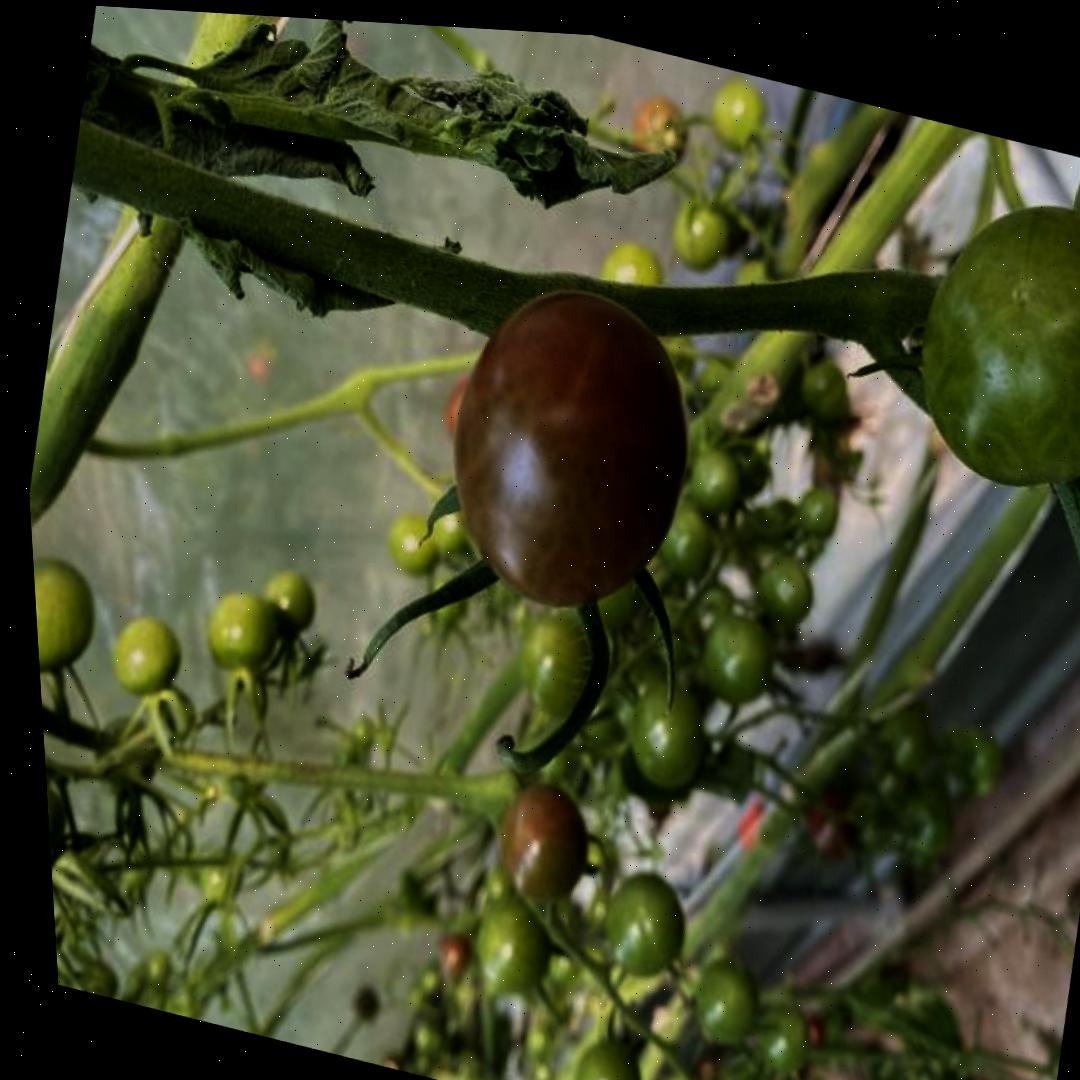mentah: (884, 172, 1080, 518), (593, 865, 696, 987), (32, 548, 108, 689), (1041, 153, 1080, 341), (46, 769, 77, 907)
setengah_matang: (414, 263, 725, 642), (484, 771, 601, 918)
